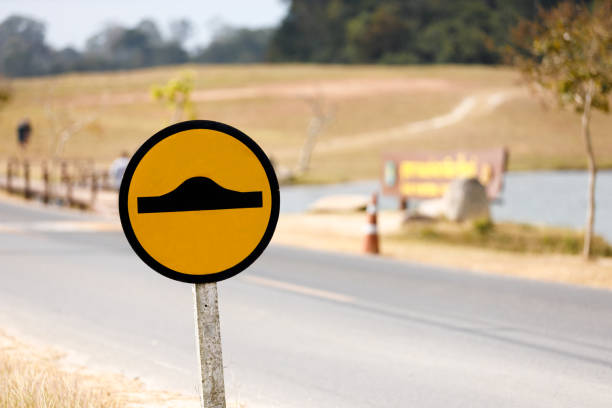speed-breaker: (117, 119, 282, 283)
